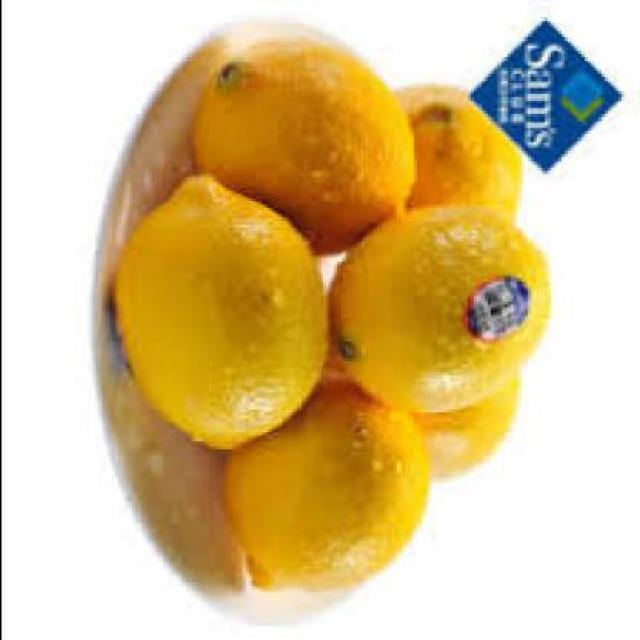BIODEGRADABLE: (108, 173, 330, 450), (184, 40, 416, 252), (327, 202, 555, 412), (219, 373, 430, 592), (401, 83, 521, 228), (422, 367, 523, 481)
